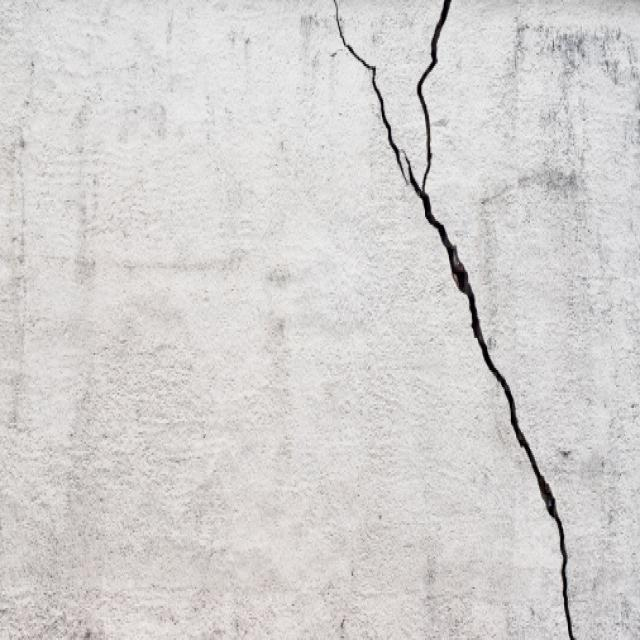Crack: (325, 0, 584, 639)
